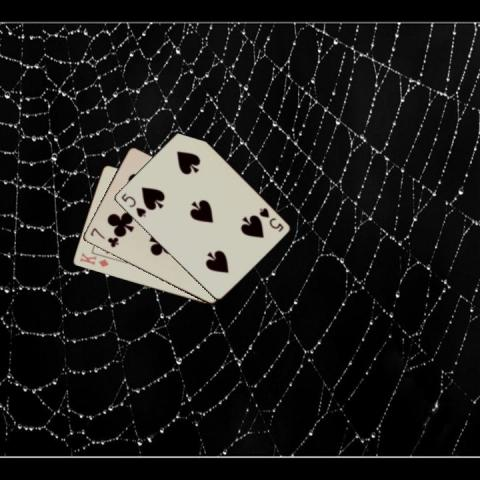5s: (118, 190, 147, 219), (256, 205, 285, 233)
7c: (87, 225, 120, 249)
Kd: (77, 249, 110, 269)
